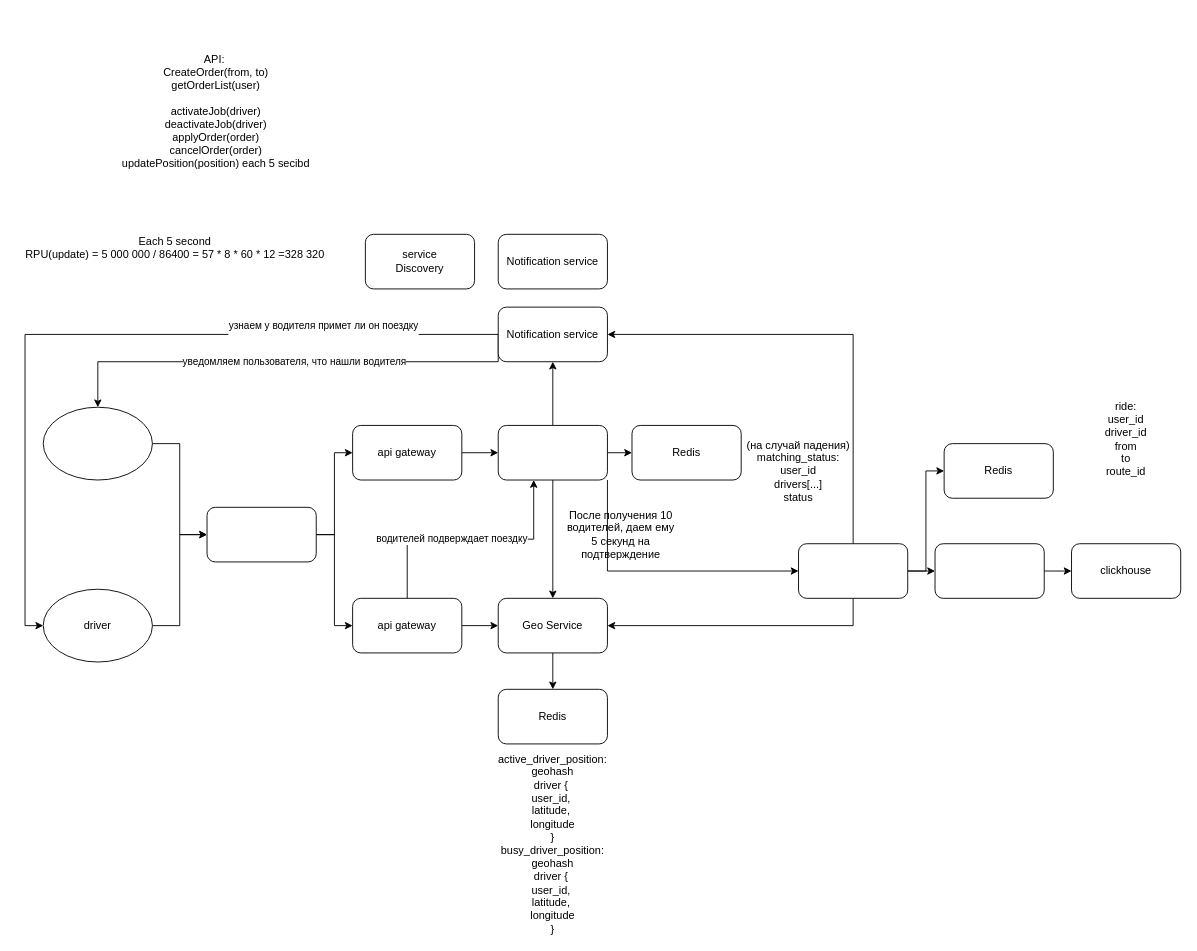
The diagram is 1197 pixels wide and 951 high, and some of its shapes have lost their labels. The box of each missing label's shape, as (x1, y1, x2, y2) in pixels:
History service: (934, 543, 1044, 598)
load balancer: (206, 506, 316, 562)
matching service: (497, 425, 607, 480)
passenger: (42, 406, 152, 480)
Ride service: (798, 543, 908, 598)
